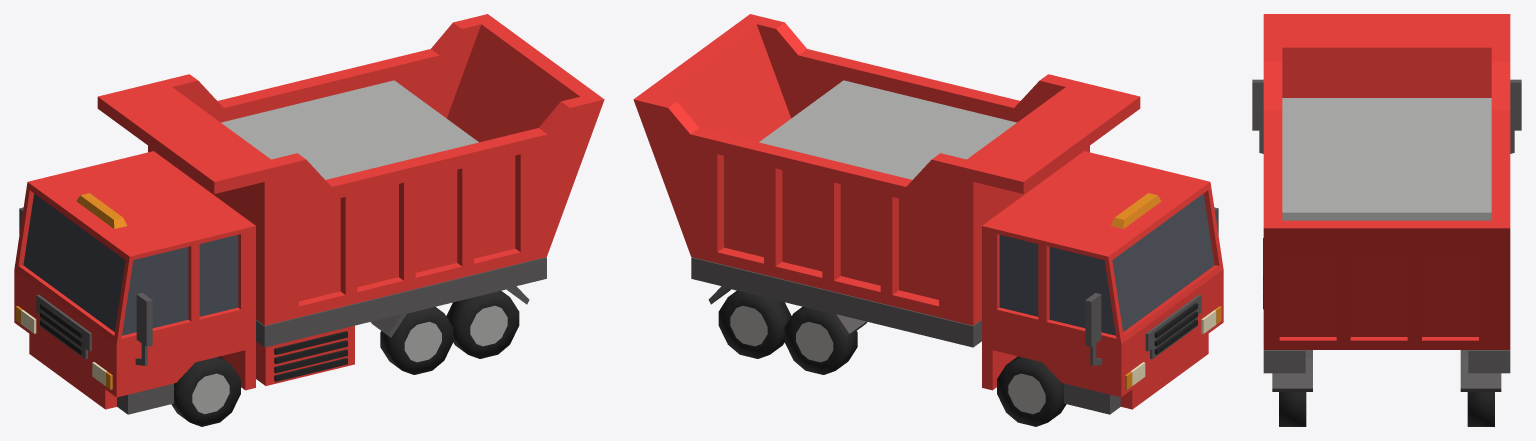
Rendered from Trask_Truck_L1.fbx.
The picture shows the model from 3 angles, left to right: view 1: azimuth 30°, elevation 25°; view 2: azimuth 150°, elevation 25°; view 3: azimuth 270°, elevation 25°; orthographic projection. The views are drawn at different scales.
Parts seen in each view (by area): view 1: Truck Carier, Truck Body; view 2: Truck Carier, Truck Body; view 3: Truck Carier, Truck Body.
Boxes of the visible parts, x1,y1,x2,y2 form: Truck Carier: (97,14,604,325); Truck Body: (14,151,546,426); Truck Carier: (633,14,1140,325); Truck Body: (691,151,1223,426); Truck Carier: (1263,14,1510,349); Truck Body: (1252,79,1521,426).
Size of the model in its own units: 961 by 470 by 437.
